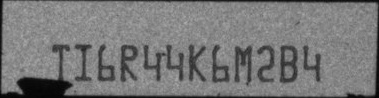2: (256, 43, 275, 83)
4: (143, 42, 162, 82), (301, 43, 320, 82), (165, 45, 184, 80)
6: (210, 43, 230, 82), (96, 43, 115, 81)
B: (278, 43, 299, 84)
I: (74, 42, 93, 82)
K: (188, 41, 207, 81)
M: (234, 43, 253, 83)
R: (120, 43, 138, 81)
T: (49, 44, 69, 82)
